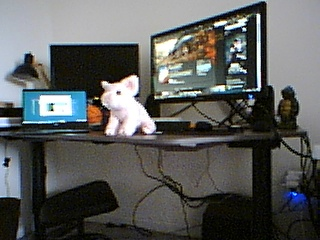piggy: (99, 74, 157, 138)
